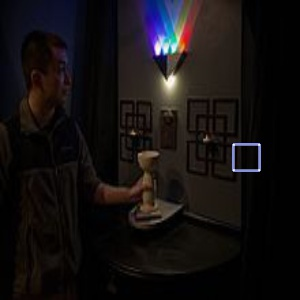square: (229, 141, 265, 174)
